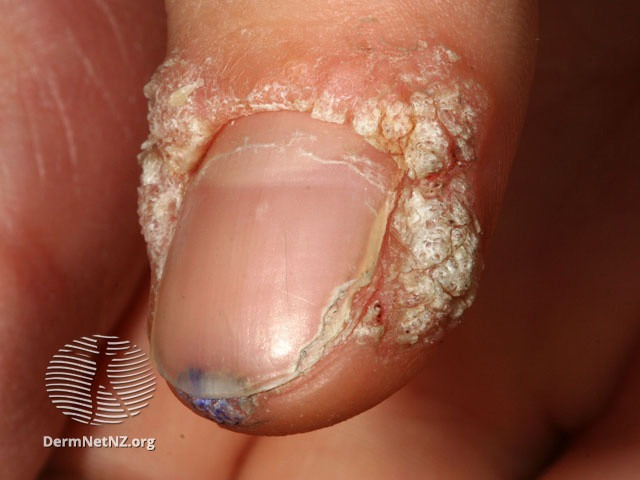Warts: (128, 32, 504, 356)
